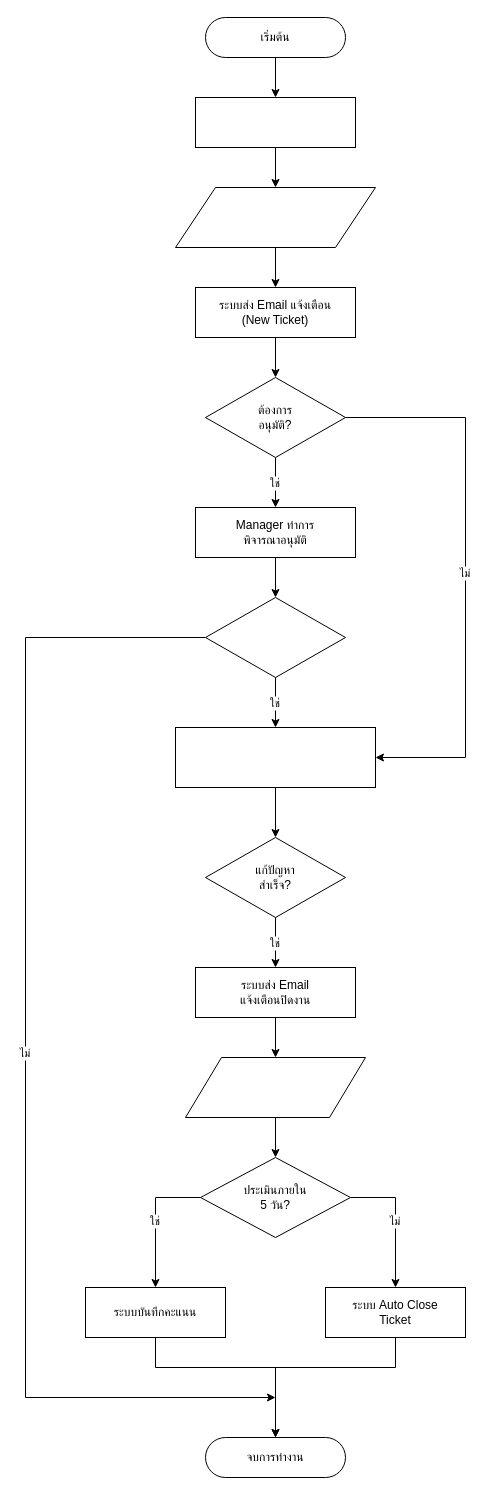
This 491x1495 diagram has some shape labels left out. Each missing label, with the box of its shape:
Admin / IT รับเรื่องและ ดำเนินการแก้ไขปัญหา: (174, 726, 376, 788)
User ประเมิน ความพึงพอใจ: (184, 1056, 366, 1118)
User เข้าสู่ระบบ (Login): (194, 96, 356, 148)
สร้าง Ticket แจ้งปัญหา / คำร้อง: (174, 186, 376, 248)
อนุมัติ หรือไม่?: (204, 596, 346, 678)
